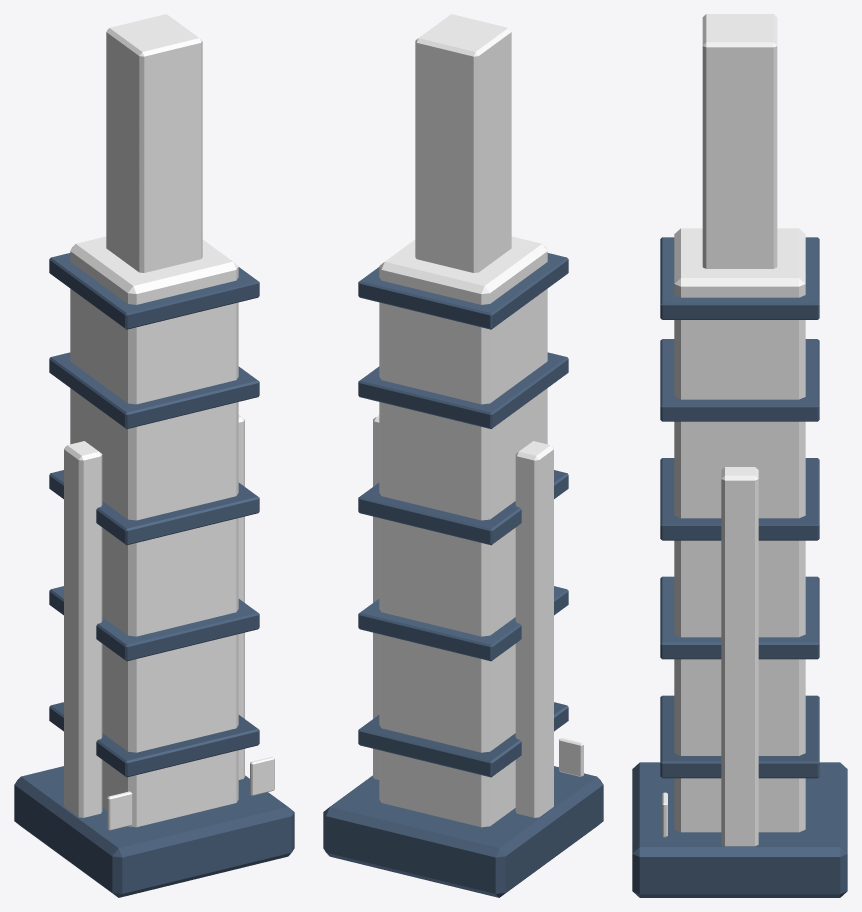
Rendered from refinery-stack.glb.
3 renders of one model, left to right at view 1: azimuth 30°, elevation 25°; view 2: azimuth 150°, elevation 25°; view 3: azimuth 270°, elevation 25°, orthographic. The views are drawn at different scales.
Parts seen in each view (by area): view 1: refinery-stack; view 2: refinery-stack; view 3: refinery-stack.
Part boxes in pixels (x1,y1,x2,y2): refinery-stack: [14, 14, 294, 897]; refinery-stack: [323, 14, 603, 897]; refinery-stack: [632, 14, 847, 897].
Size of the model in its own units: 23 by 97.5 by 23.
